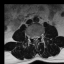CCS_normal: (34, 33, 36, 43)
LFS_normal: (38, 33, 40, 40)
LLS_normal: (36, 34, 38, 41)
RFS_normal: (30, 33, 32, 41)
RLS_normal: (32, 34, 34, 41)
